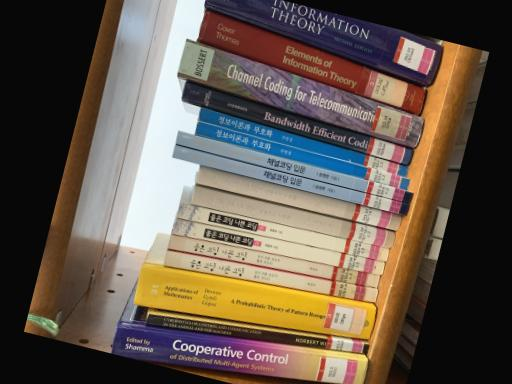book-spine: (177, 38, 424, 146), (196, 8, 426, 114), (204, 0, 443, 82), (181, 80, 413, 163), (133, 265, 377, 338), (175, 130, 413, 202), (172, 144, 410, 215), (194, 119, 410, 189), (111, 325, 367, 384), (198, 106, 408, 177), (195, 166, 401, 229), (190, 185, 395, 247), (176, 202, 389, 261), (171, 218, 385, 274), (168, 233, 380, 287), (164, 250, 377, 302), (145, 313, 370, 352)
